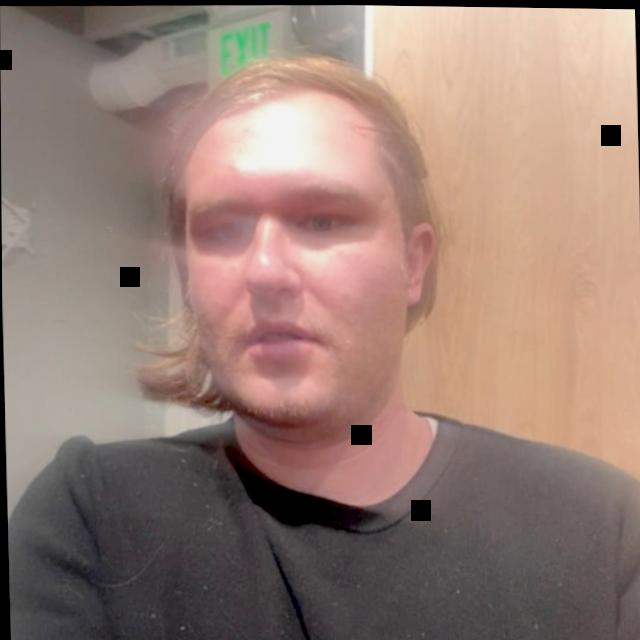NO-Mask: (133, 44, 448, 537)
